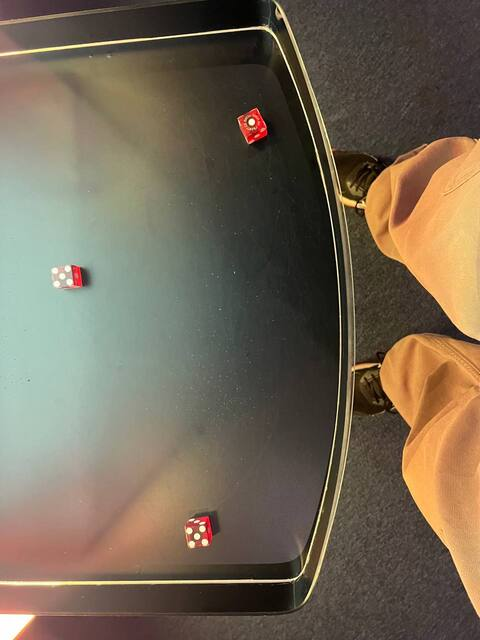five: (180, 521, 216, 552), (48, 261, 76, 292)
one: (235, 106, 266, 137)
